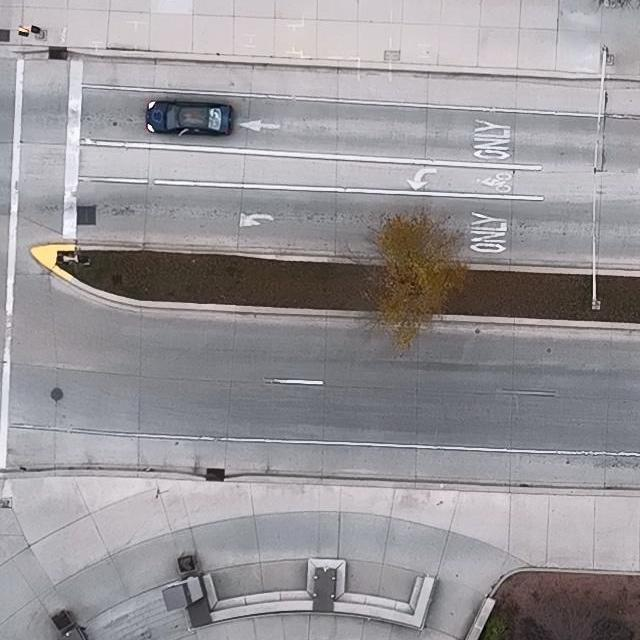car: (145, 98, 233, 137)
